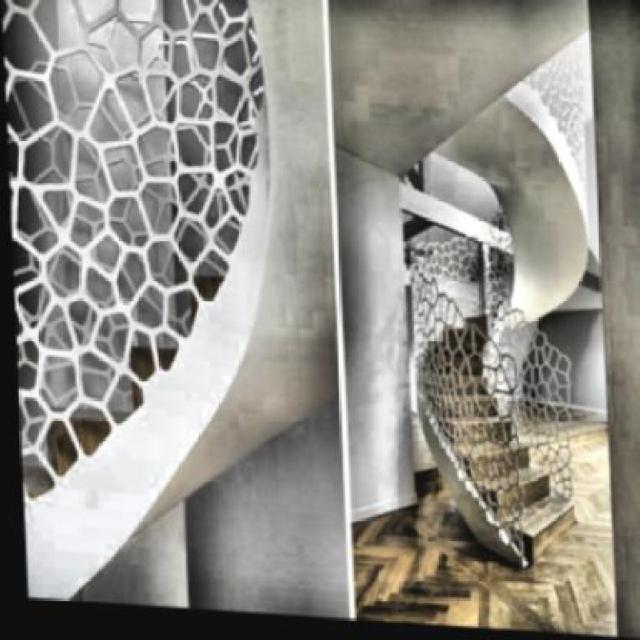stair: (403, 292, 571, 577)
